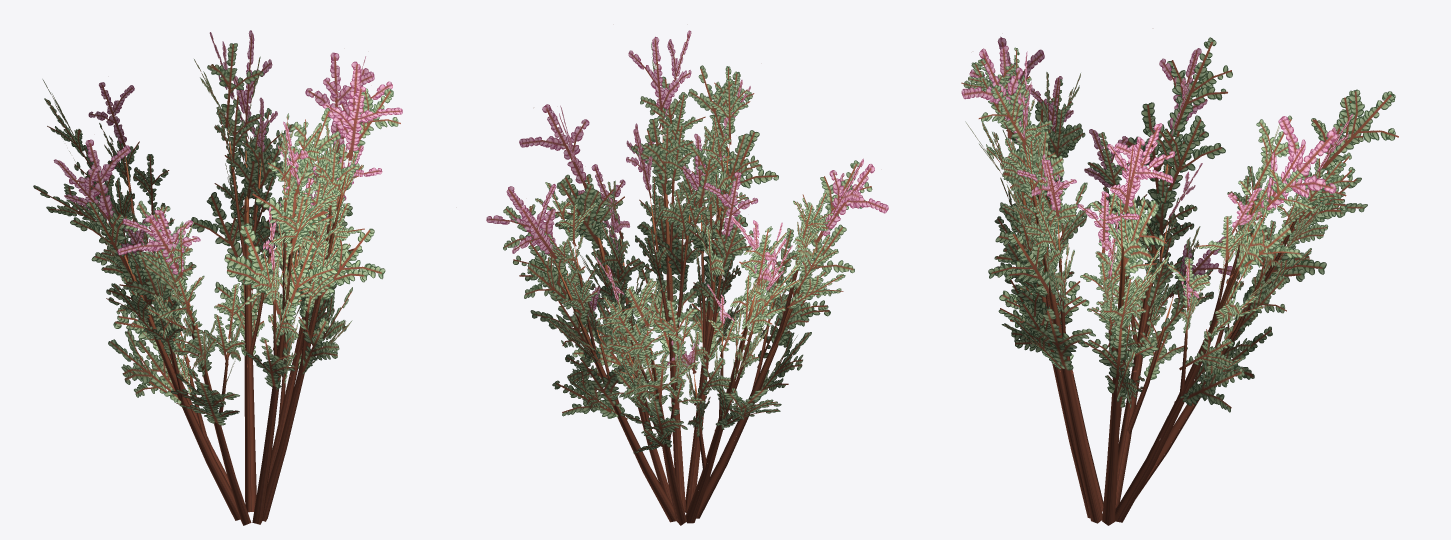
The model's file is SM_Env_DesertTamarisk.glb.
3 renders of one model, left to right at view 1: azimuth 30°, elevation 25°; view 2: azimuth 150°, elevation 25°; view 3: azimuth 270°, elevation 25°, orthographic. The views are drawn at different scales.
Parts seen in each view (by area): view 1: SM_Env_DesertTamarisk_LOD0; view 2: SM_Env_DesertTamarisk_LOD0; view 3: SM_Env_DesertTamarisk_LOD0.
Boxes of the visible parts, <box> form: SM_Env_DesertTamarisk_LOD0: <box>33,30,402,525</box>; SM_Env_DesertTamarisk_LOD0: <box>486,30,888,525</box>; SM_Env_DesertTamarisk_LOD0: <box>961,36,1398,525</box>.
Bounding box in the file's own units: 1.72 × 2.27 × 2.02.
Materials: 1 (1 with a texture image).
